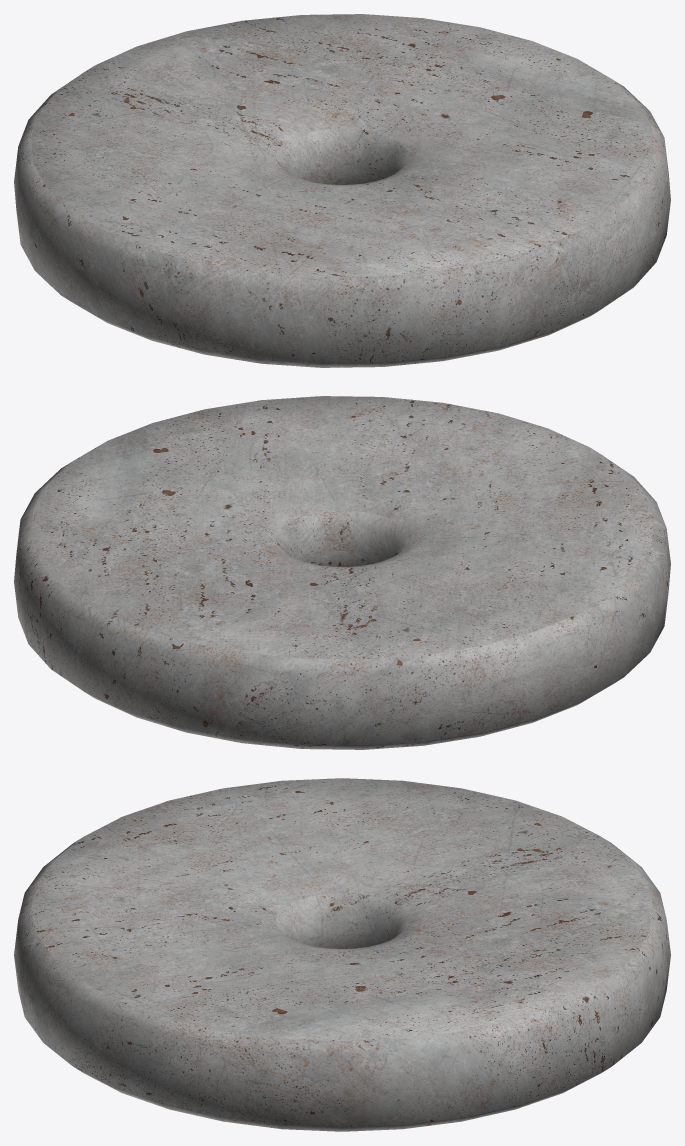
File: Argolla.fbx
3 renders of one model, top to bottom at view 1: azimuth 30°, elevation 25°; view 2: azimuth 150°, elevation 25°; view 3: azimuth 270°, elevation 25°, orthographic.
Parts seen in each view (by area): view 1: Circle; view 2: Circle; view 3: Circle.
Part boxes in pixels (<box>): Circle: <box>14,14,670,367</box>; Circle: <box>14,396,670,749</box>; Circle: <box>14,778,670,1131</box>.
Bounding box in the file's own units: 5.95 × 0.9464 × 5.95.
